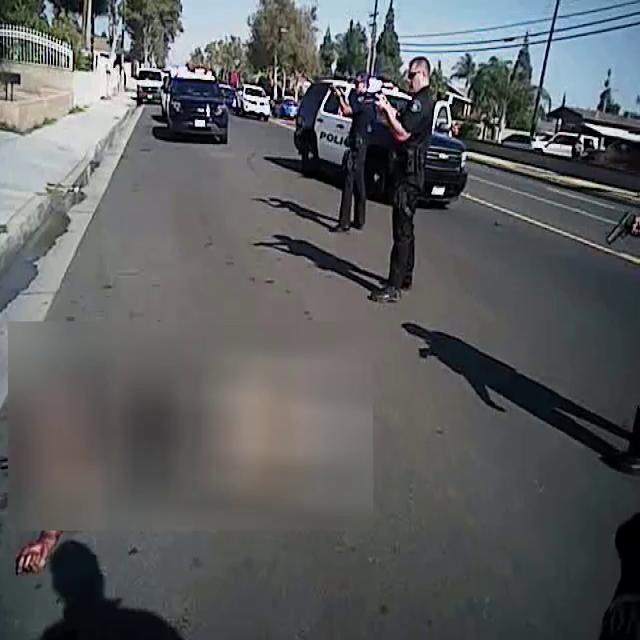gun: (593, 205, 640, 251), (358, 82, 394, 113), (323, 70, 341, 96)
